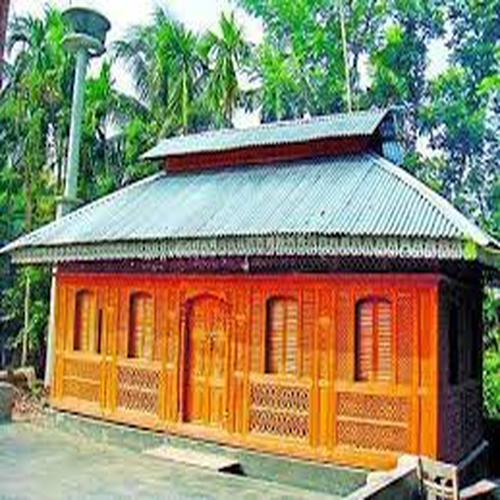Tin-shade House: (15, 102, 487, 462)
